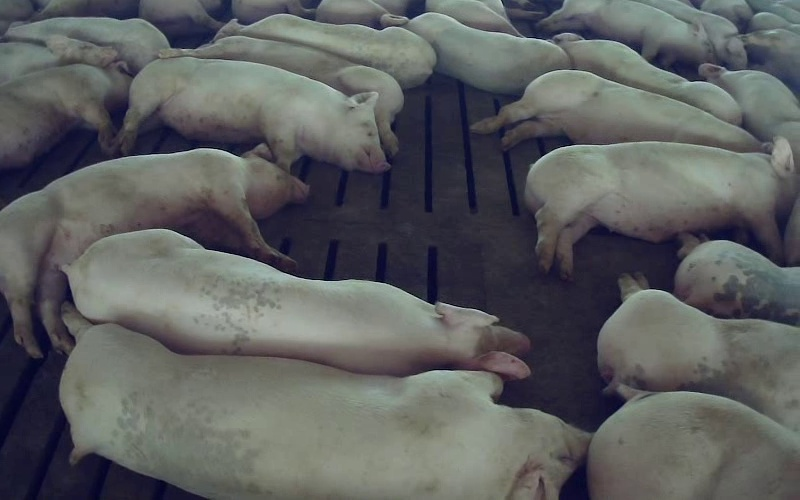pig: (60, 306, 590, 499), (64, 230, 529, 379), (0, 145, 307, 355), (525, 137, 799, 276), (597, 273, 799, 431), (117, 57, 388, 173), (160, 36, 403, 157), (587, 384, 799, 499), (471, 70, 761, 151), (553, 33, 741, 125), (214, 14, 435, 88), (381, 12, 570, 94), (0, 61, 131, 169), (538, 0, 714, 66), (674, 233, 799, 325), (699, 63, 799, 173), (5, 17, 169, 74), (0, 35, 117, 83)
